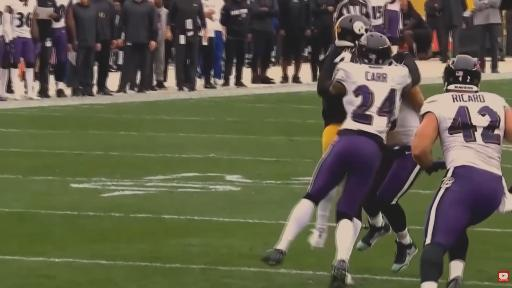Helmet: (443, 55, 481, 91), (356, 32, 392, 65), (335, 15, 370, 47)
Jersey: (422, 92, 508, 174), (334, 62, 410, 142), (318, 46, 353, 126), (387, 96, 419, 145), (9, 0, 36, 38), (367, 0, 389, 26), (52, 0, 69, 28)
Player: (263, 33, 410, 287), (412, 55, 511, 287), (358, 52, 423, 272), (318, 15, 370, 154), (6, 0, 40, 99), (52, 0, 71, 97)
